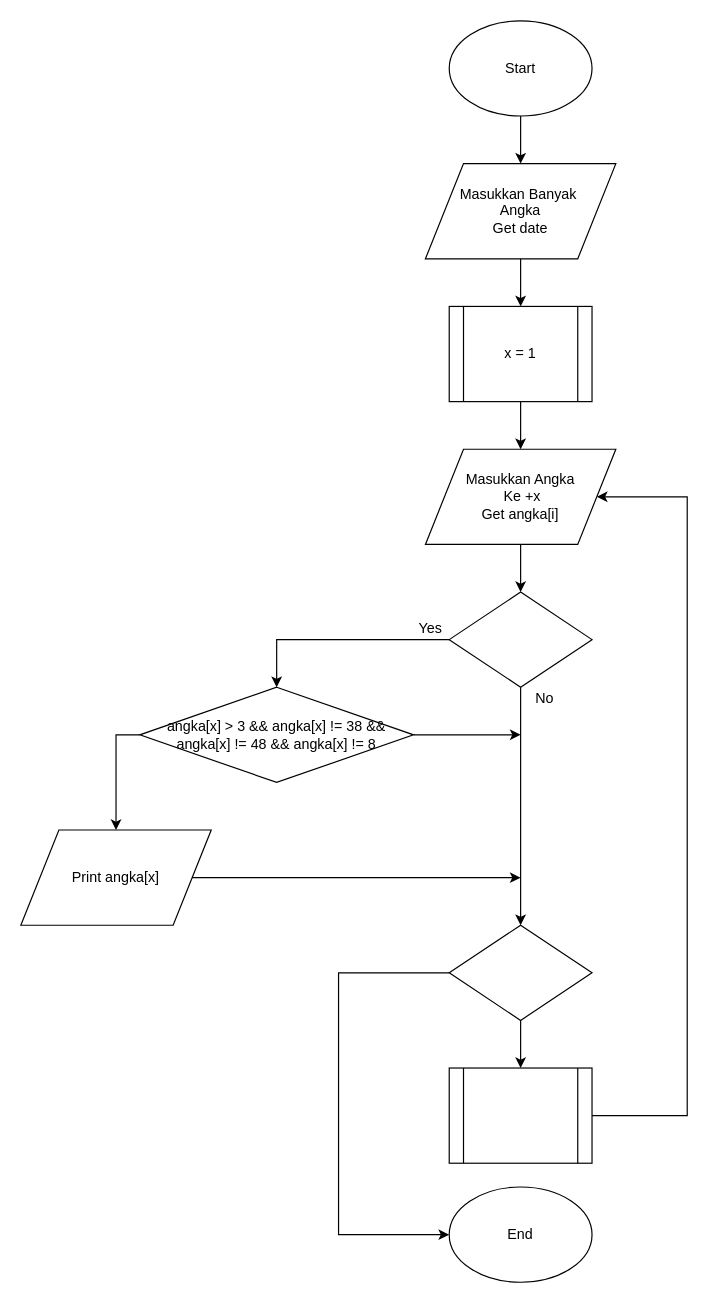
Image size: 718x1303. Some labels were removed from this diagram. Here are the shapes that lost their labels. From the top down, the box of each, then its label:
(448, 591, 592, 687): angka[i] % 2 == 0
(448, 924, 592, 1020): x >= data
(448, 1067, 592, 1163): x = x + 1
